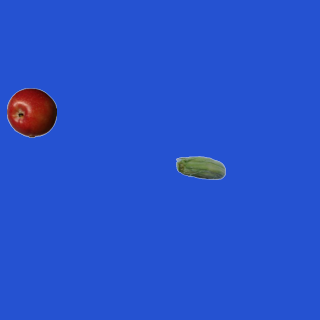Apple Braeburn: (6, 87, 56, 137)
Corn Husk: (175, 144, 225, 194)
